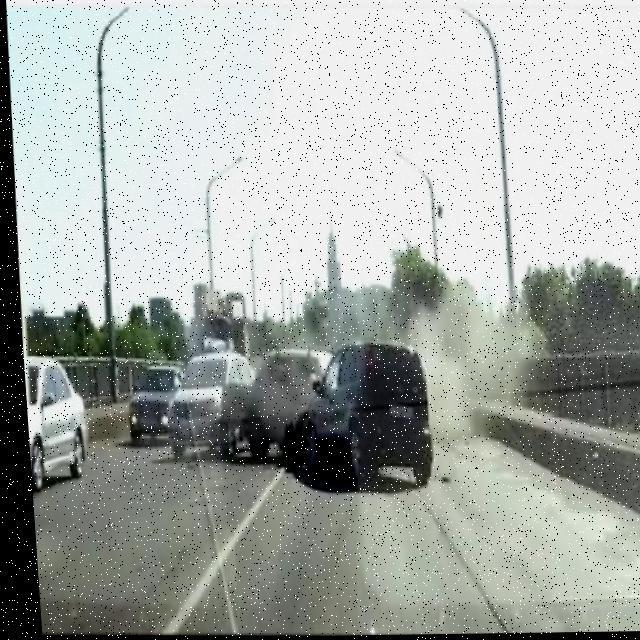Car Accident Detector - v4 Generation1 Exported: (164, 334, 434, 488)
